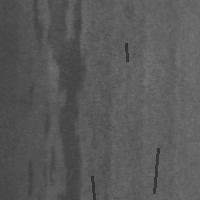inclusion: (46, 1, 85, 197), (26, 1, 46, 51), (152, 146, 160, 195), (90, 174, 98, 200), (124, 41, 129, 63)
